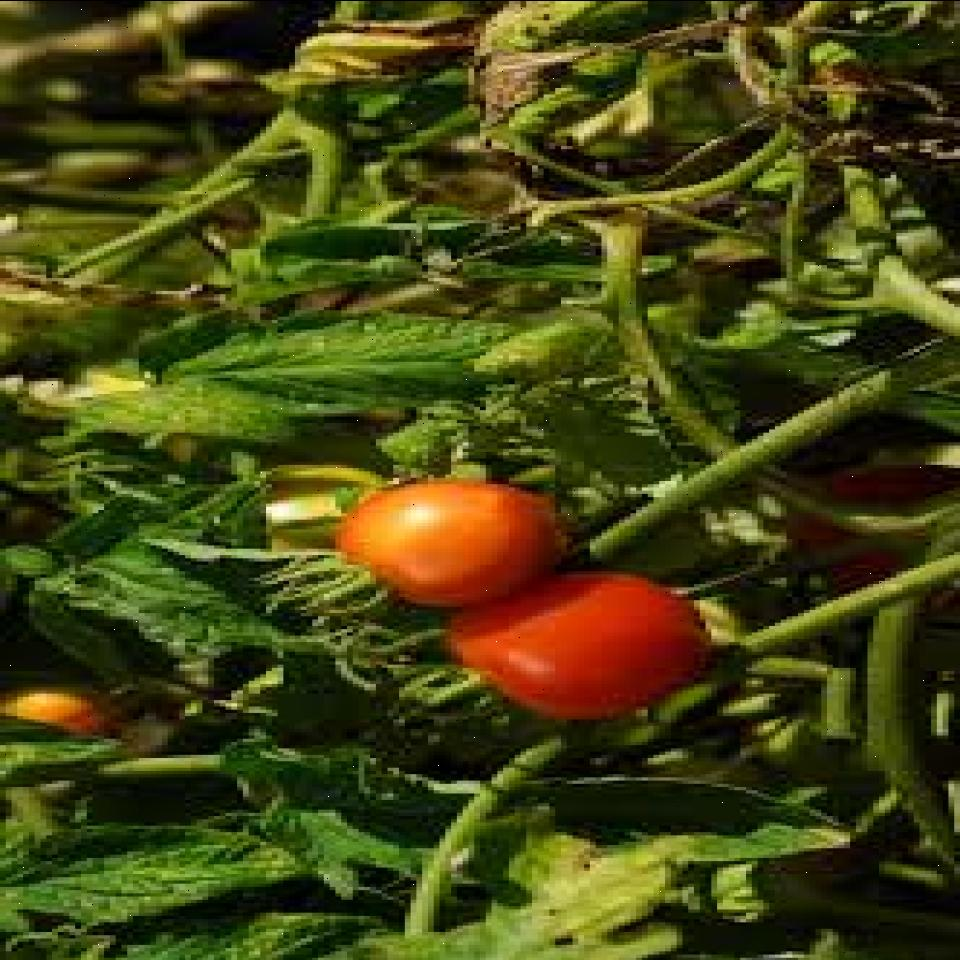Spotted wilt Virus: (438, 571, 706, 721), (325, 474, 577, 606)
